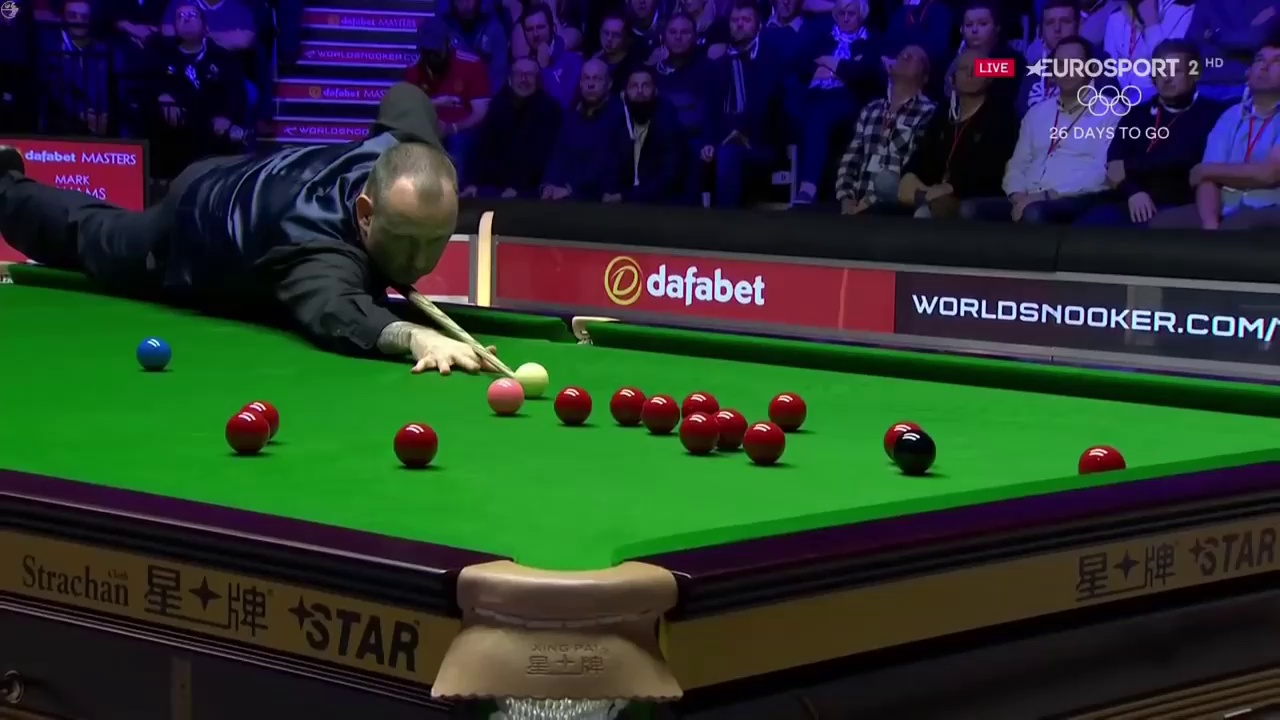black: (895, 429, 935, 474)
blue: (136, 336, 173, 370)
pink: (486, 377, 524, 417)
red: (391, 422, 439, 464), (223, 413, 269, 456), (741, 421, 784, 462), (556, 383, 593, 426), (1076, 442, 1125, 471), (680, 412, 717, 450), (642, 395, 678, 433), (767, 392, 807, 422)
